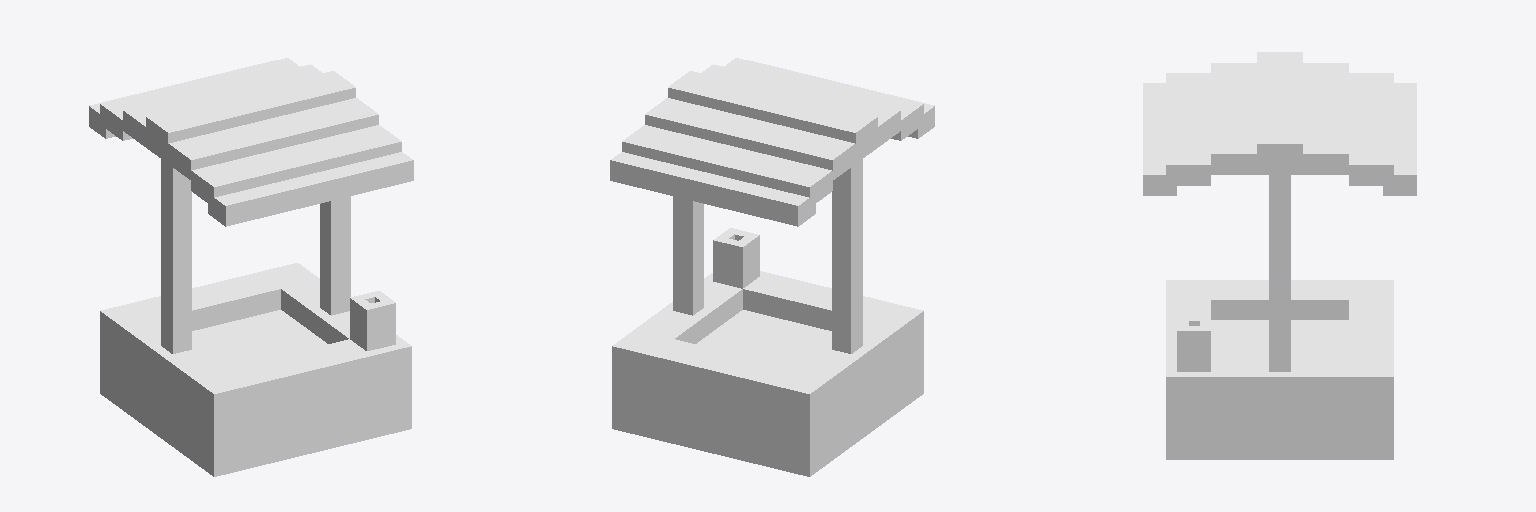
Rendered from well.obj.
The picture shows the model from 3 angles: view 1: azimuth 30°, elevation 25°; view 2: azimuth 150°, elevation 25°; view 3: azimuth 270°, elevation 25°; orthographic projection.
Parts seen in each view (by area): view 1: object 1; view 2: object 1; view 3: object 1.
Boxes of the visible parts, x1,y1,x2,y2 form: object 1: [89, 58, 413, 476]; object 1: [610, 58, 934, 476]; object 1: [1143, 52, 1416, 459].
Size of the model in its own units: 2 by 3 by 2.4.